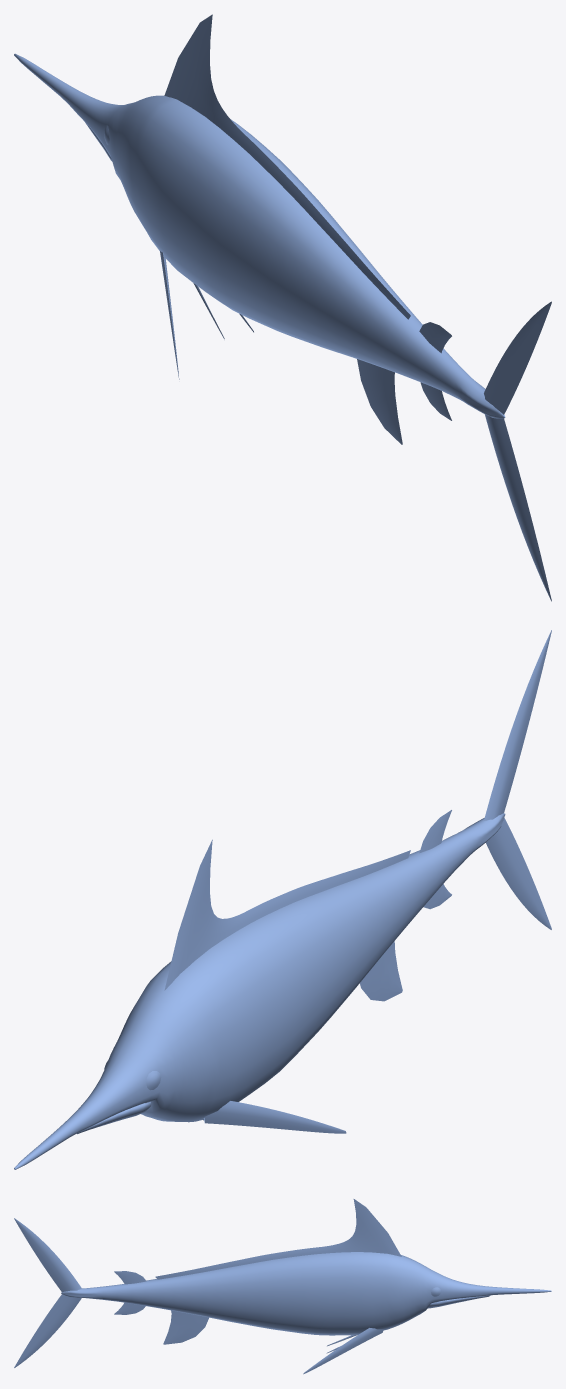
File: blue_marlin_lo.glb
The picture shows the model from 3 angles, top to bottom: view 1: azimuth 30°, elevation 25°; view 2: azimuth 150°, elevation 25°; view 3: azimuth 270°, elevation 25°; orthographic projection. The views are drawn at different scales.
Parts seen in each view (by area): view 1: blue_marlin_lo; view 2: blue_marlin_lo; view 3: blue_marlin_lo.
Part boxes in pixels (x1,y1,x2,y2): blue_marlin_lo: (14,14,551,601); blue_marlin_lo: (14,630,551,1169); blue_marlin_lo: (14,1199,551,1374).
Size of the model in its own units: 0.6439 by 1.25 by 3.6.
